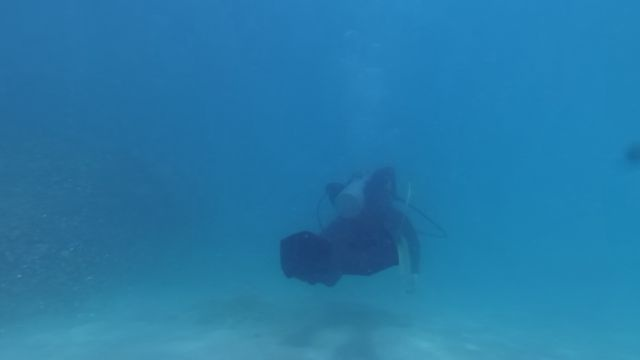Diver: (260, 162, 461, 307)
Hand: (402, 267, 429, 301)
